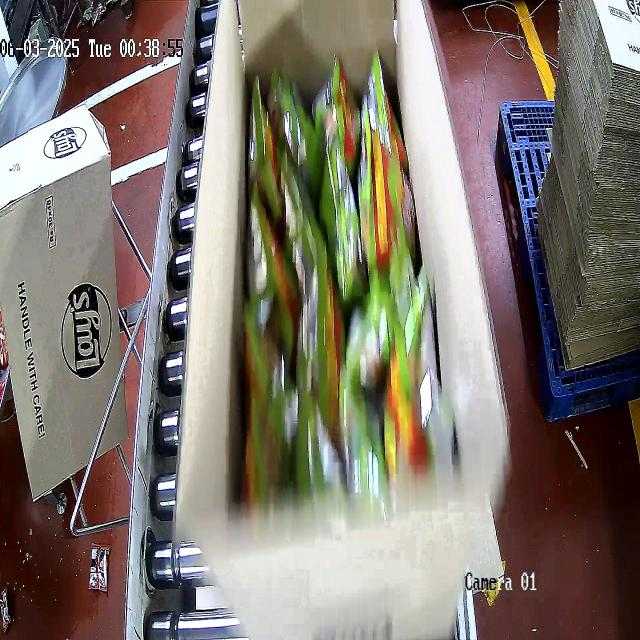YOGURT_HERB: (242, 47, 451, 534)
